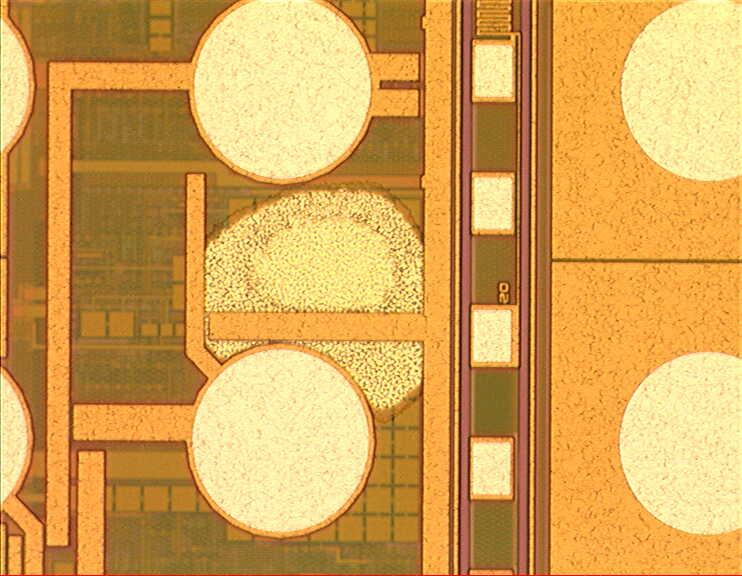BLOCK ETCH: (192, 176, 438, 425)
